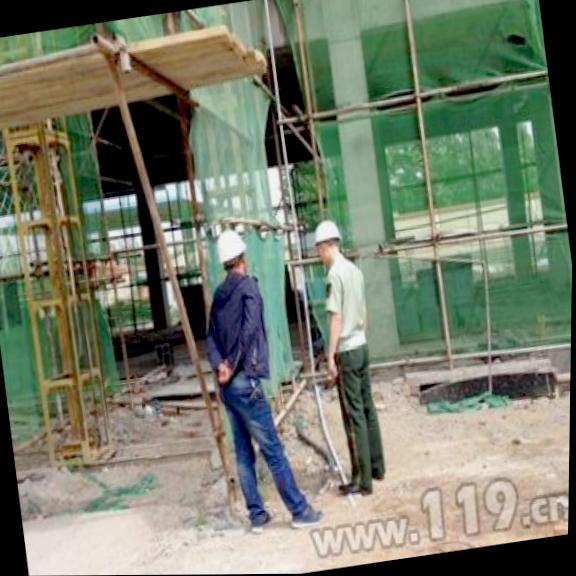no_safety_vest: (194, 267, 279, 385), (315, 256, 375, 349)
